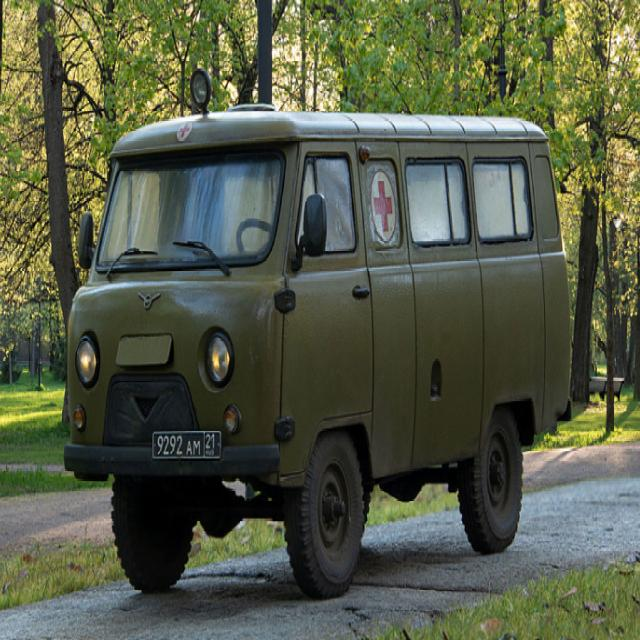CAR: (58, 67, 573, 599)
